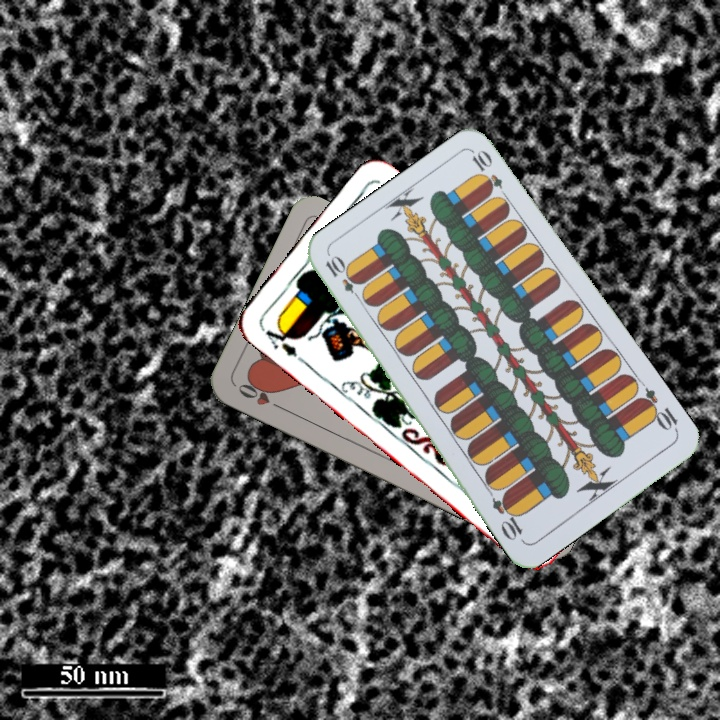E10: (633, 384, 681, 435), (321, 252, 366, 305)
EA: (261, 318, 308, 366)
HO: (233, 376, 288, 413)
